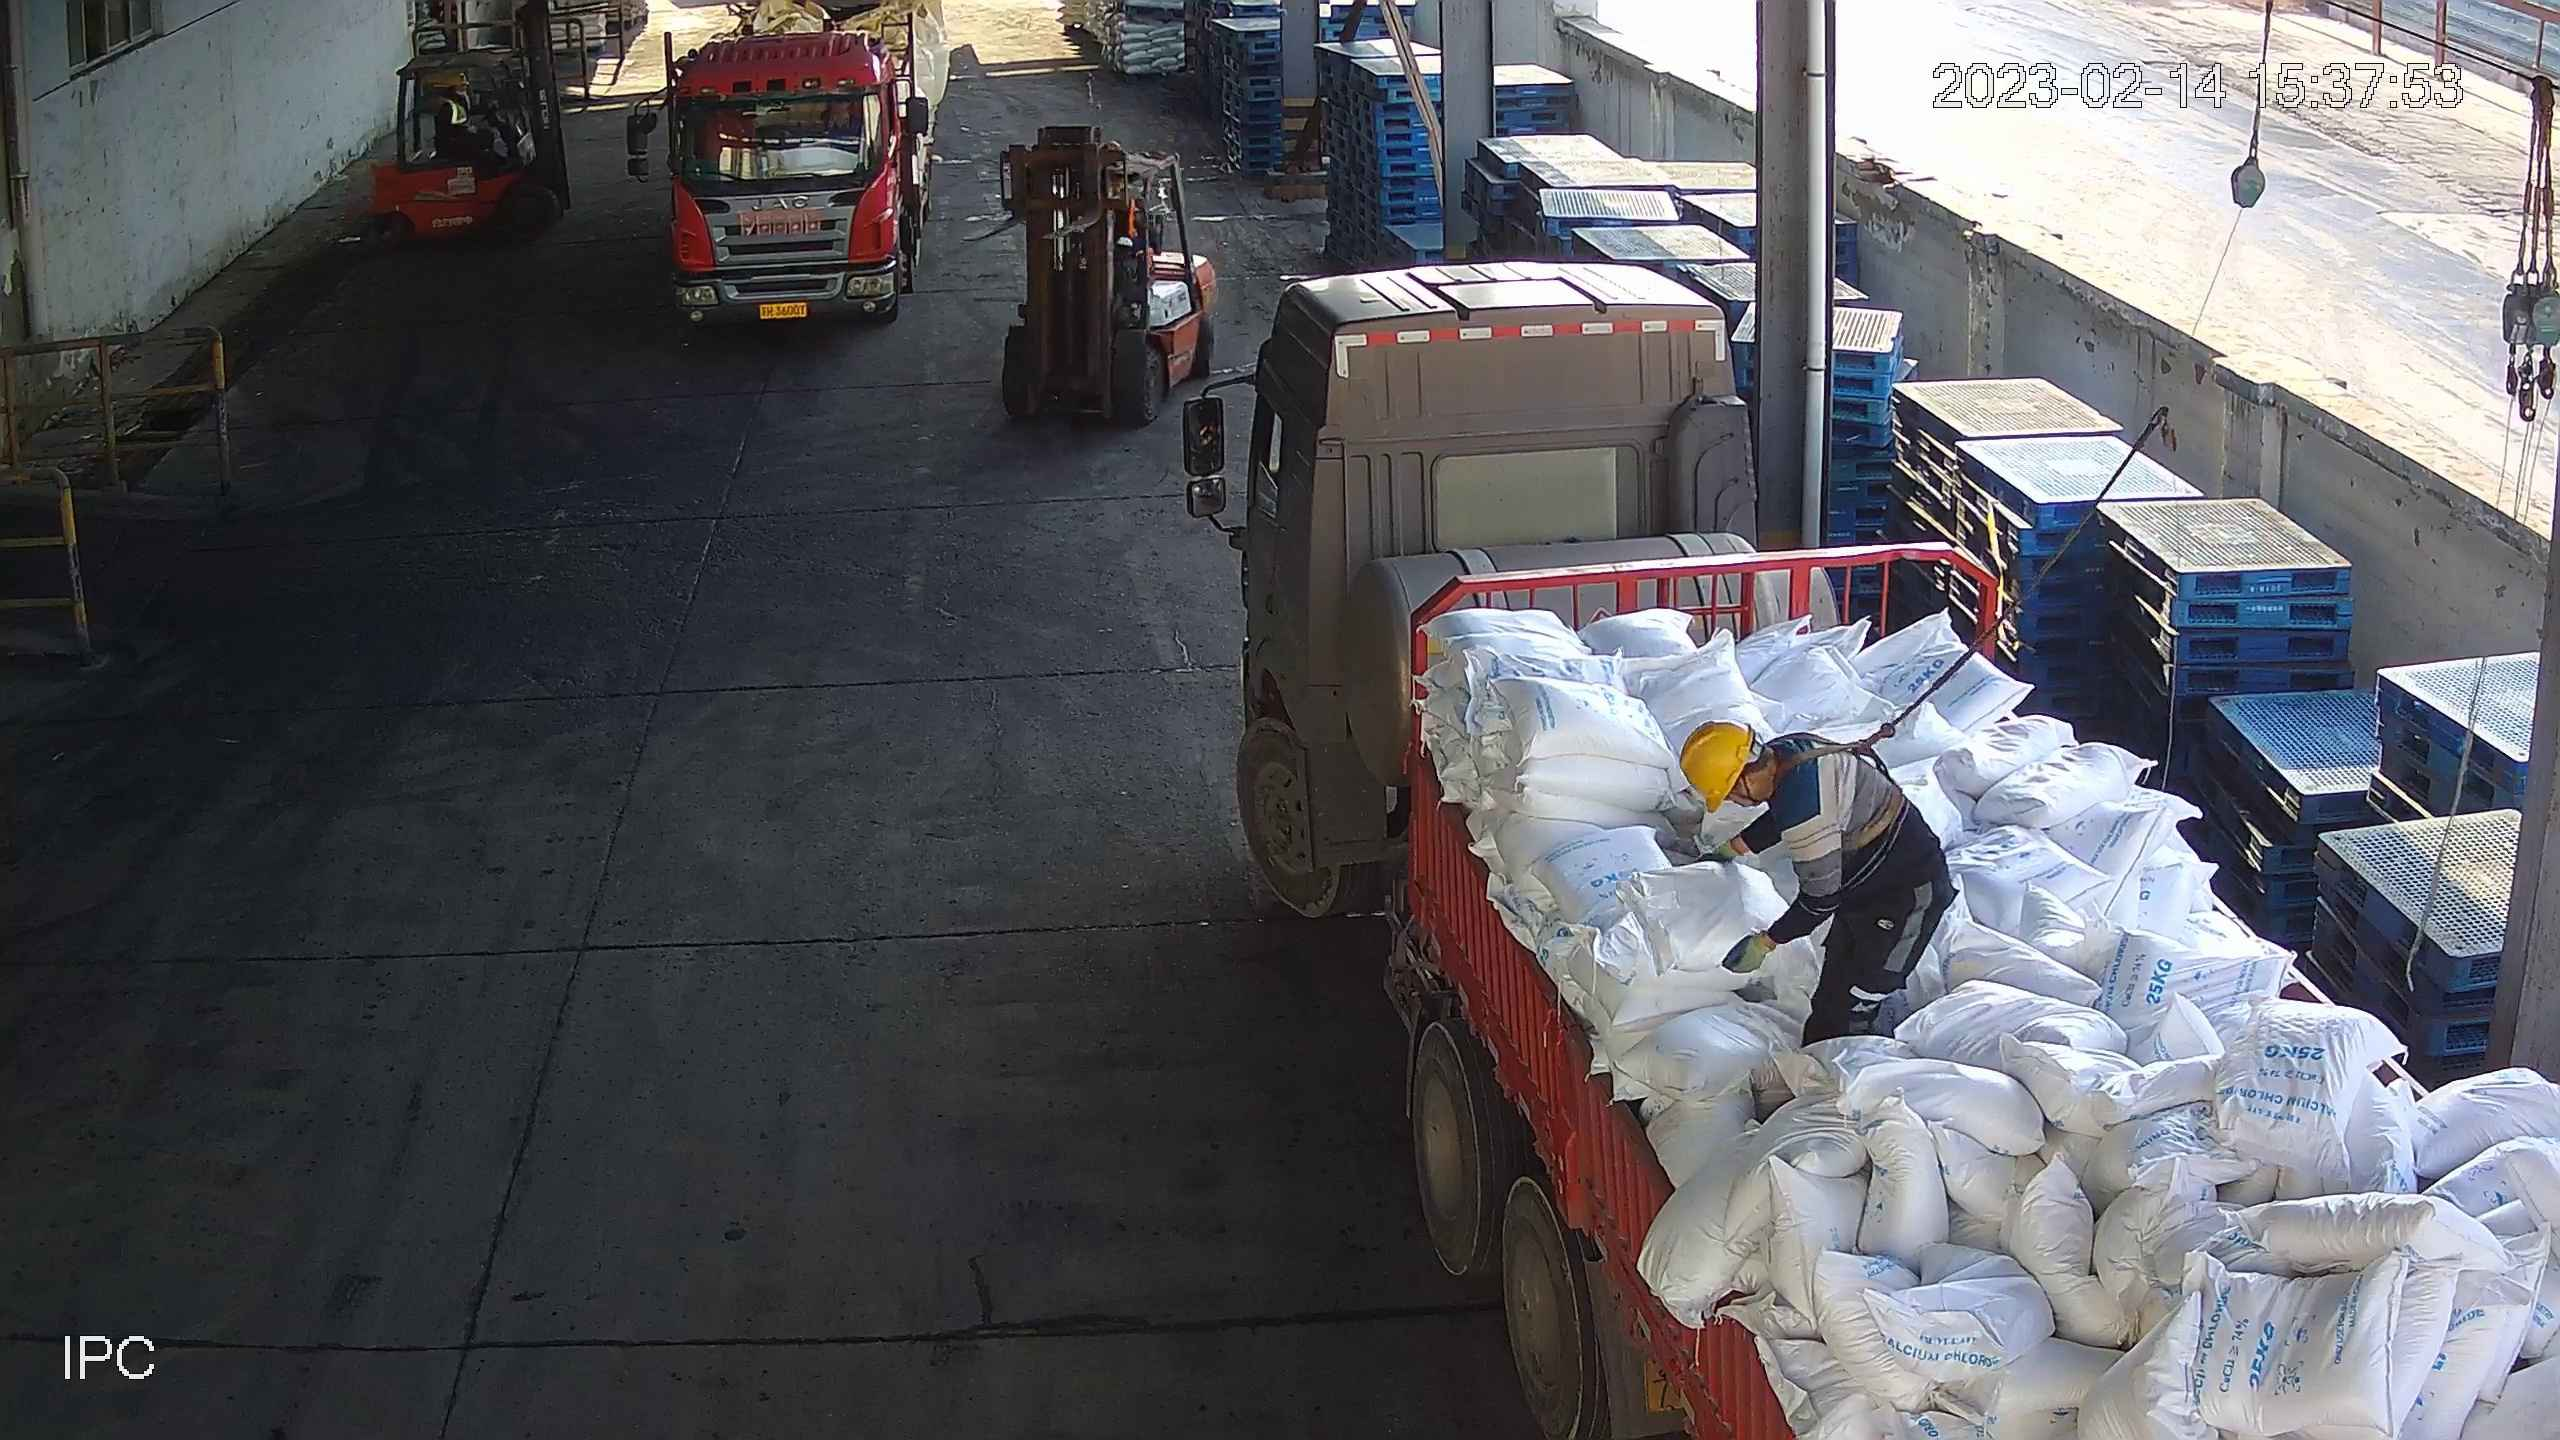belt: (1764, 710, 1905, 786)
head: (1664, 697, 1842, 871)
helmet: (1670, 706, 1746, 814)
people: (1673, 704, 1955, 1066)
truck: (1170, 234, 2560, 1440), (614, 6, 966, 349)
